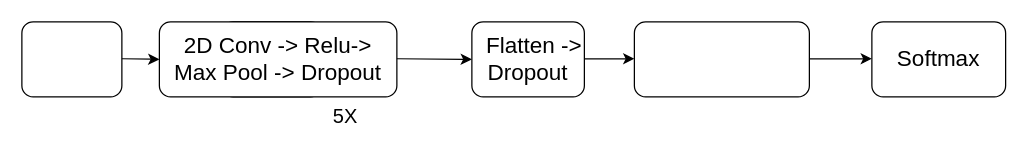
Image size: 1028x156. Some labels were removed from this diagram. Here are the shapes that lost their labels. From the top down, the box of each, then its label:
(21, 21, 122, 97): Input
(633, 21, 809, 97): Dense->Dropout
